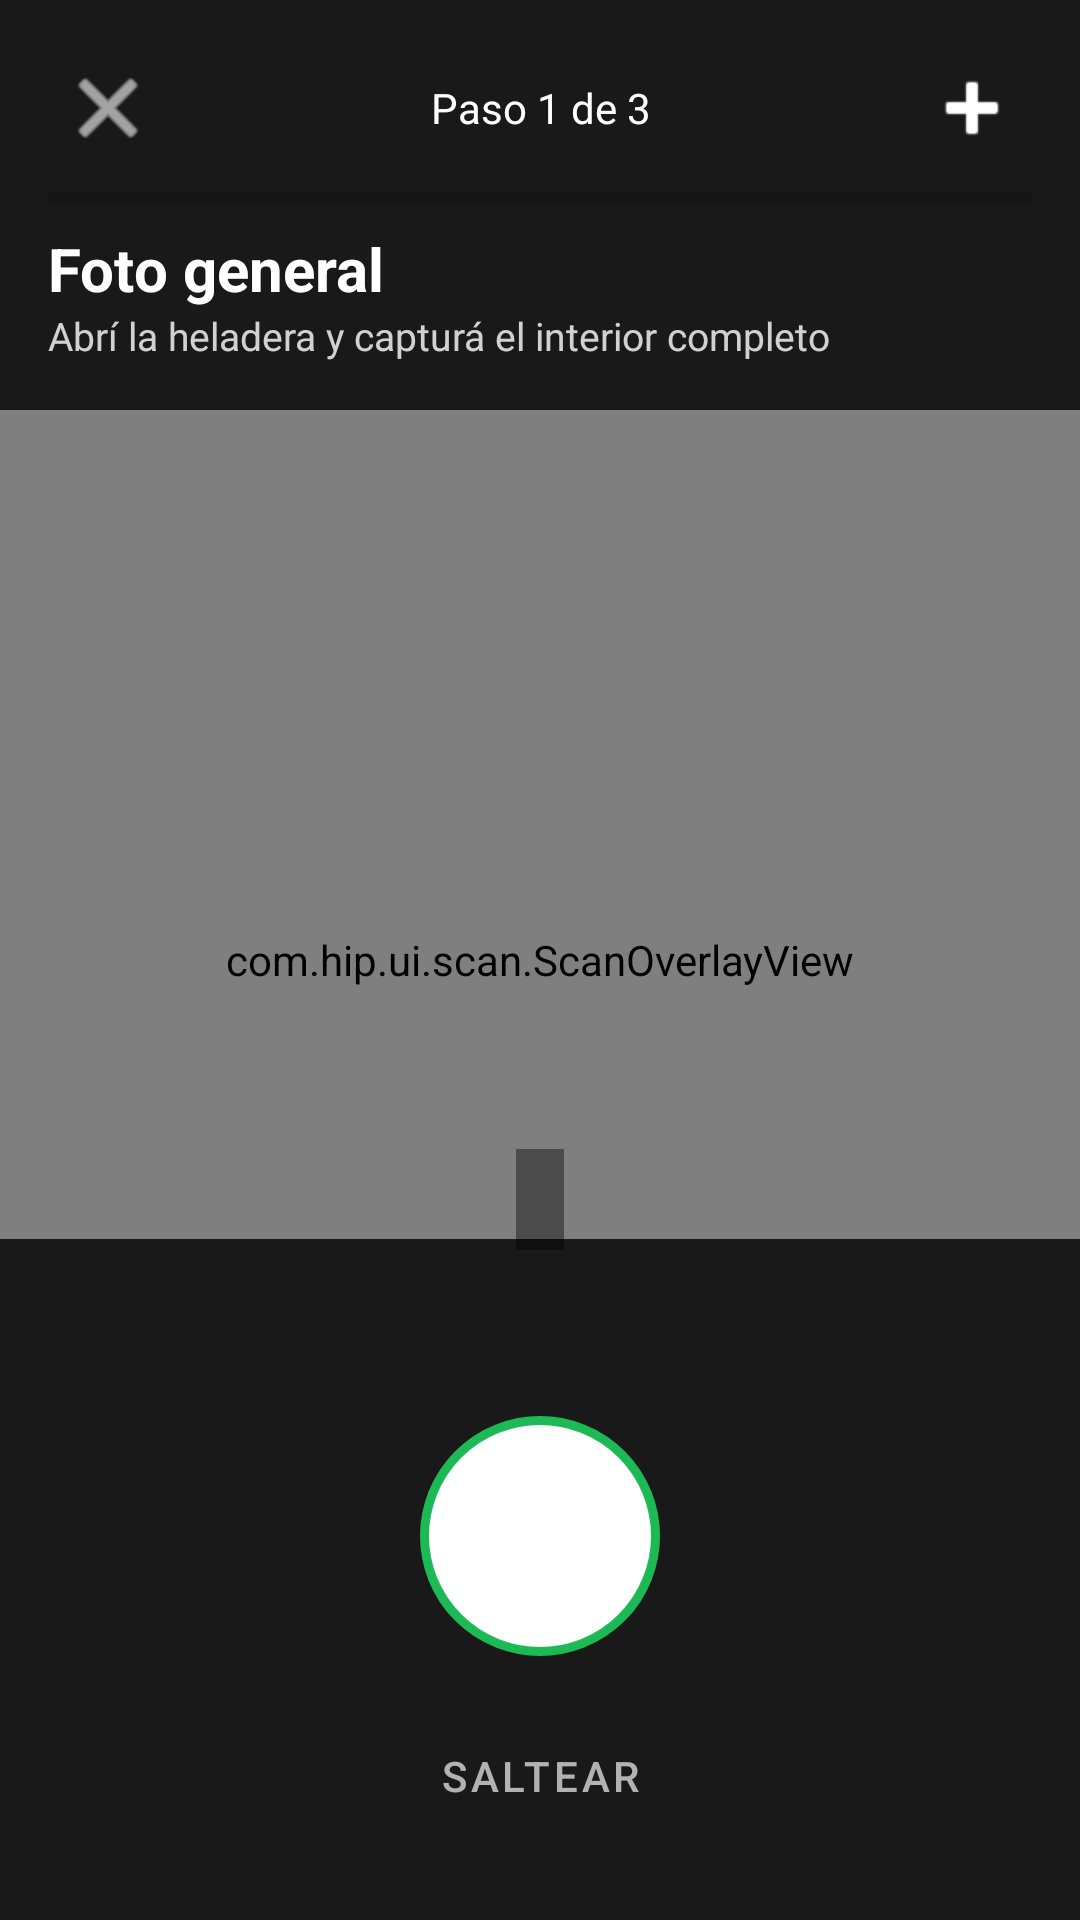

Icon click points for this 1080 x 1920 phone screenshot, format (x,y):
Agregar manualmente: (972,108)
